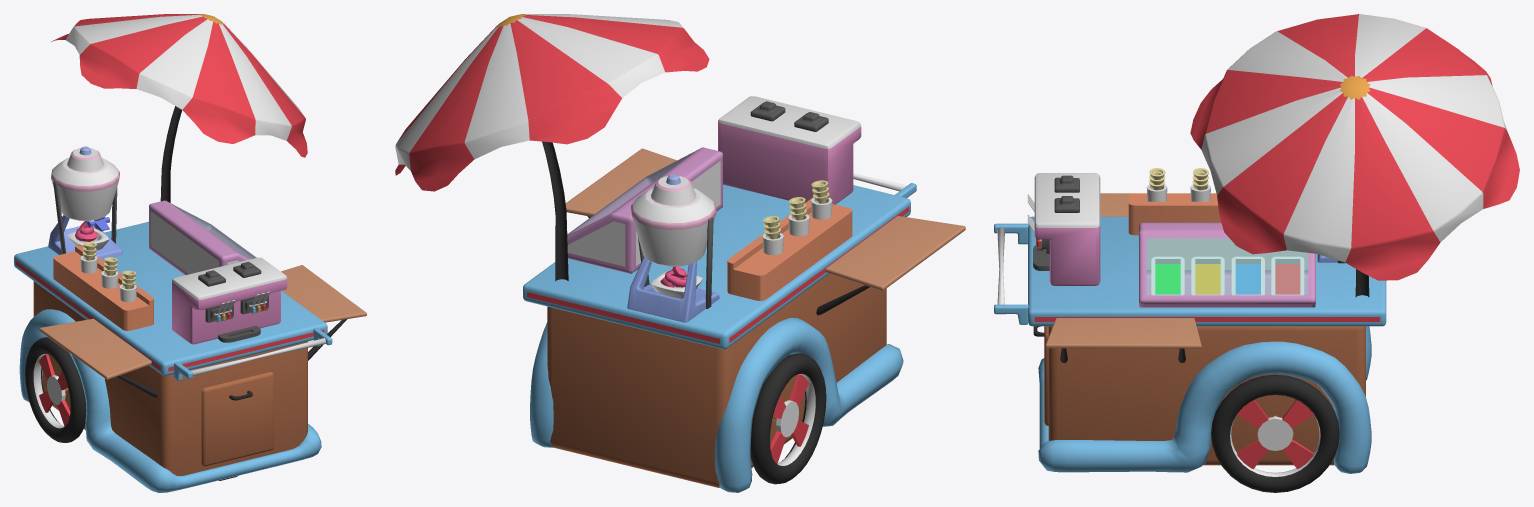
The model's file is IceCream_Trolley.fbx.
3 views of the same model, side by side, from view 1: azimuth 30°, elevation 25°; view 2: azimuth 150°, elevation 25°; view 3: azimuth 270°, elevation 25° (orthographic). The views are drawn at different scales.
Parts seen in each view (by area): view 1: Cylinder.014, Body, Top, Cube.032, Bottom, Cube.037, Cube.035, Cube.036, Cube.030, Wheel; view 2: Body, Cylinder.014, Top, Bottom, Cube.032, Cube.035, Cube.037, Cube.036, Wheel, Cube.030; view 3: Cylinder.014, Body, Bottom, Top, Cube.030, Wheel, Cube.032, Cube.037, Cube.036.
Part boxes in pixels (x1=…): Cylinder.014: x1=51, y1=14, x2=307, y2=202; Body: x1=33, y1=281, x2=307, y2=475; Top: x1=14, y1=221, x2=332, y2=392; Cube.032: x1=172, y1=257, x2=287, y2=344; Bottom: x1=19, y1=309, x2=321, y2=492; Cube.037: x1=39, y1=265, x2=366, y2=397; Cube.035: x1=48, y1=146, x2=122, y2=259; Cube.036: x1=53, y1=242, x2=153, y2=330; Cube.030: x1=149, y1=200, x2=256, y2=274; Wheel: x1=25, y1=337, x2=86, y2=442; Body: x1=547, y1=273, x2=886, y2=487; Cylinder.014: x1=395, y1=14, x2=709, y2=281; Top: x1=523, y1=173, x2=916, y2=421; Bottom: x1=530, y1=318, x2=903, y2=492; Cube.032: x1=718, y1=96, x2=861, y2=204; Cube.035: x1=627, y1=174, x2=719, y2=322; Cube.037: x1=565, y1=148, x2=965, y2=315; Cube.036: x1=727, y1=180, x2=852, y2=300; Wheel: x1=750, y1=353, x2=826, y2=484; Cube.030: x1=567, y1=147, x2=722, y2=273; Cylinder.014: x1=1190, y1=14, x2=1519, y2=297; Body: x1=1033, y1=326, x2=1365, y2=465; Bottom: x1=1038, y1=326, x2=1371, y2=473; Top: x1=994, y1=216, x2=1386, y2=416; Cube.030: x1=1139, y1=222, x2=1315, y2=307; Wheel: x1=1211, y1=374, x2=1339, y2=492; Cube.032: x1=1027, y1=173, x2=1100, y2=285; Cube.037: x1=1045, y1=193, x2=1201, y2=362; Cube.036: x1=1128, y1=168, x2=1221, y2=235.
Size of the model in its own units: 295 by 321 by 363.
